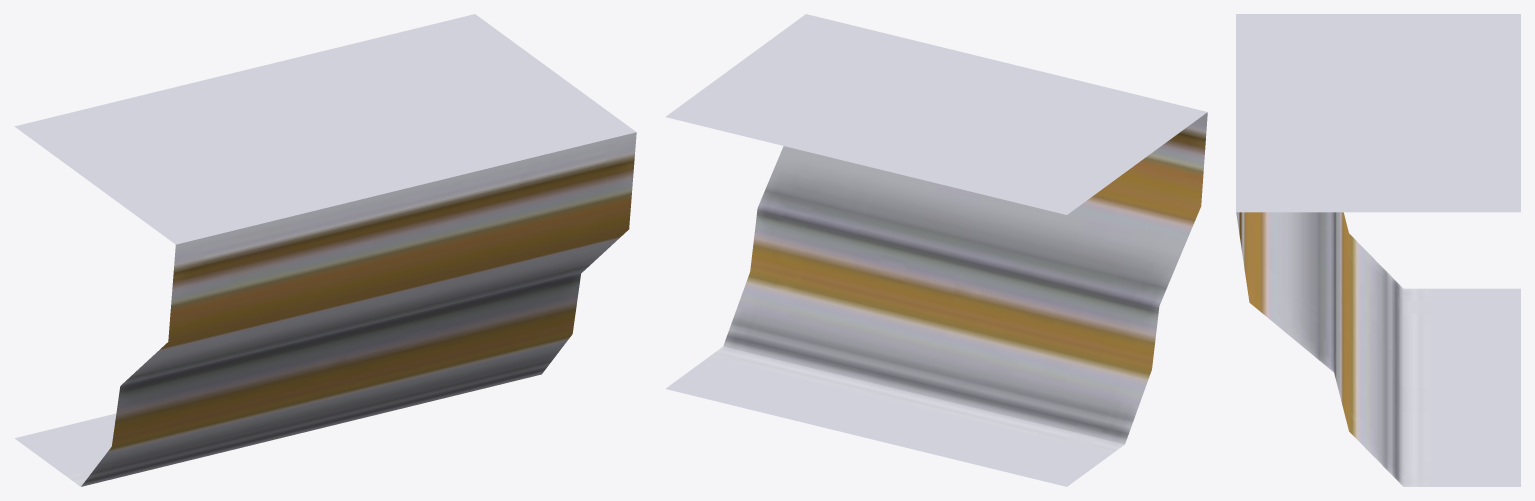
Rendered from Room02_EavesA.FBX.
3 views of the same model, side by side, from view 1: azimuth 30°, elevation 25°; view 2: azimuth 150°, elevation 25°; view 3: azimuth 270°, elevation 25° (orthographic). The views are drawn at different scales.
Visible parts, largest first — view 1: A; view 2: A; view 3: A.
Part boxes in pixels (<box>): A: <box>14,14,636,486</box>; A: <box>665,14,1207,486</box>; A: <box>1236,14,1520,486</box>.
Size of the model in its own units: 40 by 24.28 by 25.86.
